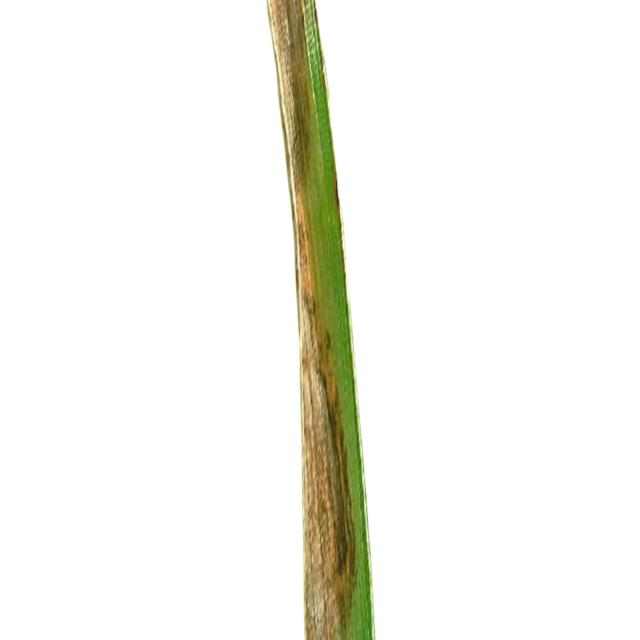Leaf scald: (175, 0, 498, 640)
